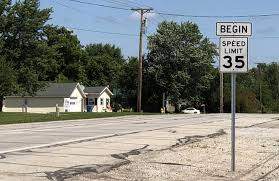speedLimit35: (220, 35, 248, 72)
